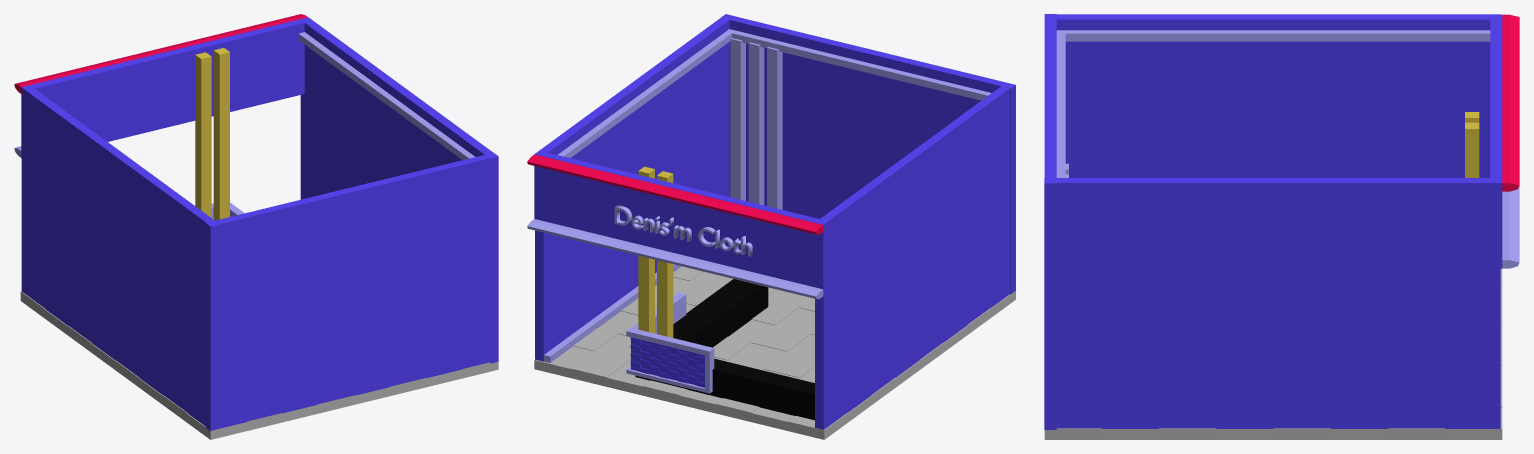
Rendered from Clothes Stall.glb.
3 renders of one model, left to right at view 1: azimuth 30°, elevation 25°; view 2: azimuth 150°, elevation 25°; view 3: azimuth 270°, elevation 25°, orthographic. The views are drawn at different scales.
Parts seen in each view (by area): view 1: Cube.129; view 2: Cube.129, Text.006; view 3: Cube.129.
Part boxes in pixels (x1=…): Cube.129: x1=14, y1=14, x2=498, y2=439; Cube.129: x1=527, y1=14, x2=1015, y2=439; Text.006: x1=614, y1=205, x2=752, y2=256; Cube.129: x1=1044, y1=14, x2=1519, y2=439.
Size of the model in its own units: 52.57 by 37.22 by 62.41.
